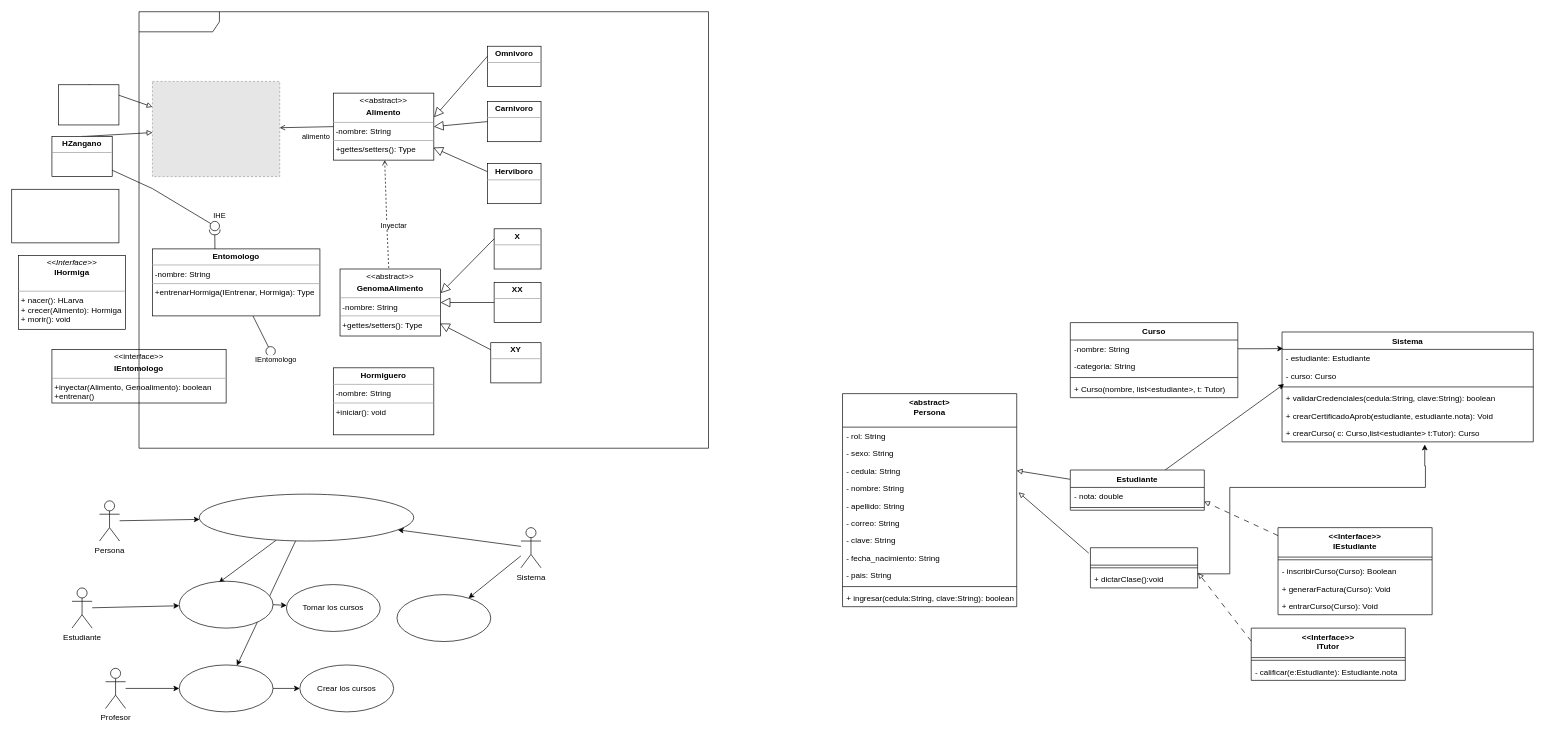
The diagram is 1545 pixels wide and 734 high, and some of its shapes have lost their labels. Grey dashed boxes stand in for pictures. The box of each missing label's shape, as (x1, y1, x2, y2) in pixels:
<<interface>> IEntrenamiento +obeder(): void: (11, 189, 119, 243)
Crear facturas de las matrículas: (396, 594, 491, 642)
Dictar clases: (179, 664, 273, 712)
ECUANT 2K25: (138, 11, 709, 448)
HLarva: (58, 84, 119, 125)
Ingresar plataforma Policursos: (199, 493, 414, 541)
Inscribirse a un policurso: (179, 581, 273, 628)
Tutor: (1090, 547, 1198, 588)
